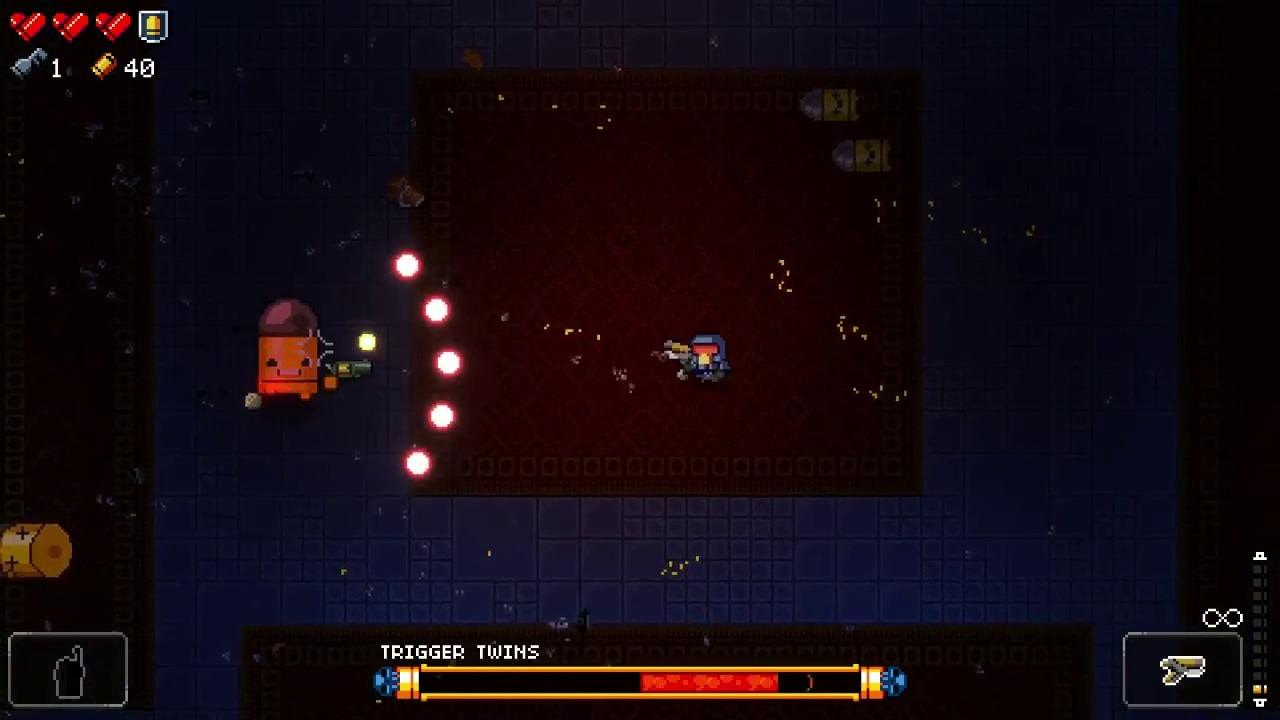boss_smiley: (256, 297, 319, 402)
bullet: (402, 448, 434, 482), (427, 400, 458, 435), (434, 348, 466, 379), (390, 252, 422, 283), (423, 297, 451, 330)
bullet_kin: (800, 89, 859, 123)
dead_boss_shades: (0, 521, 74, 580)
dead_bullet_kin: (831, 138, 891, 173)
player: (688, 336, 733, 385)
